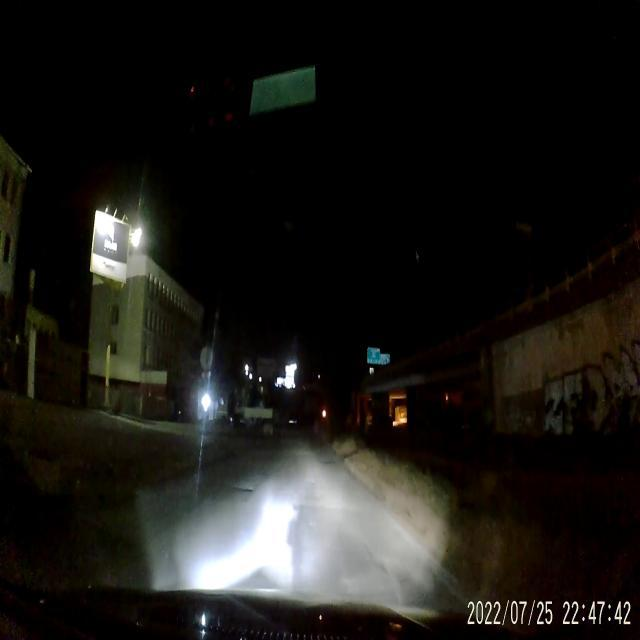Pothole: (236, 477, 253, 499)
